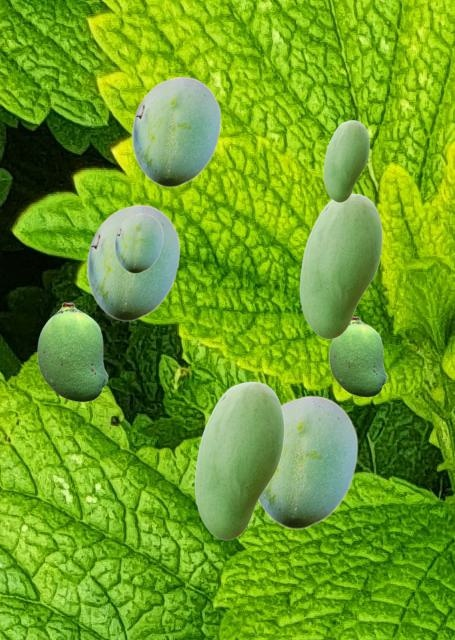green_mango: (194, 381, 283, 539), (259, 395, 357, 528), (299, 193, 381, 338), (86, 204, 179, 320), (131, 76, 220, 186), (37, 302, 107, 401), (329, 316, 386, 396), (323, 120, 368, 201), (114, 213, 162, 272)
